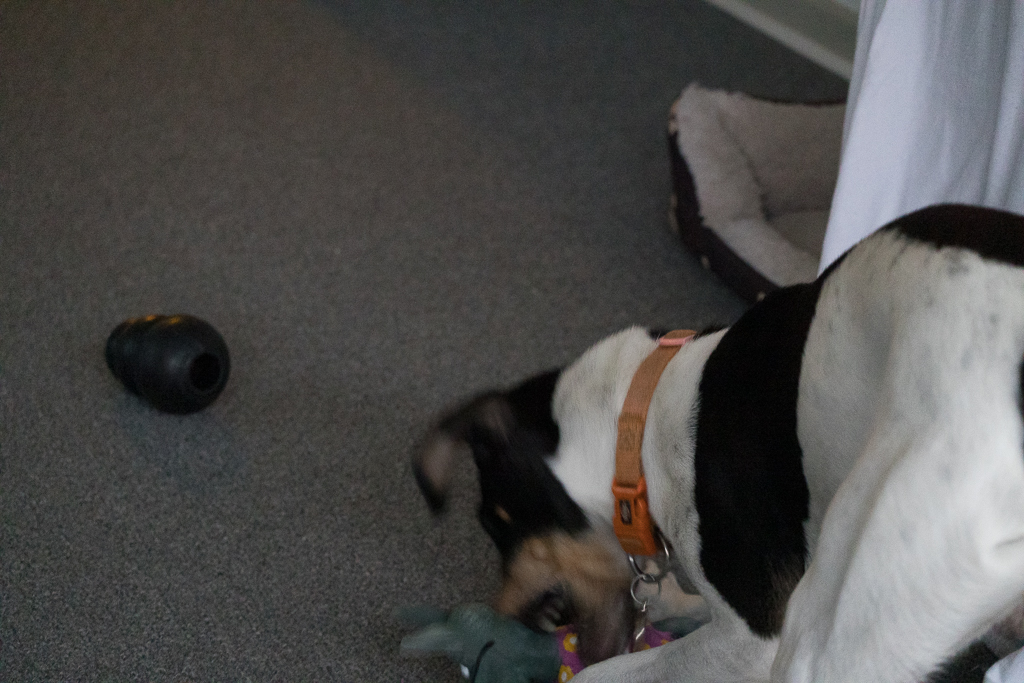Dog: (402, 188, 1024, 683)
Humanoid: (392, 574, 713, 683)
